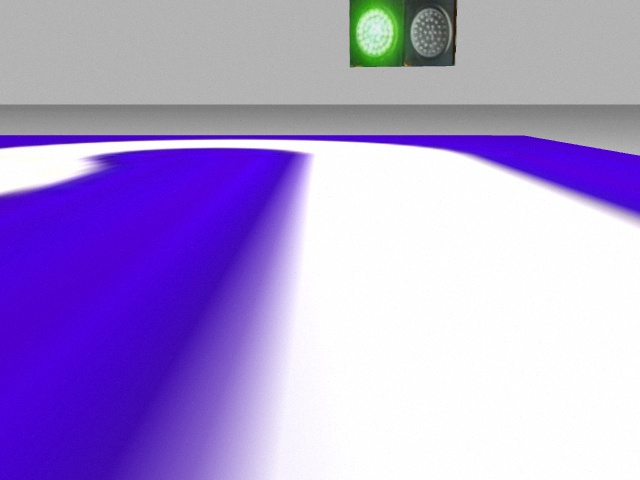green: (348, 2, 403, 67)
